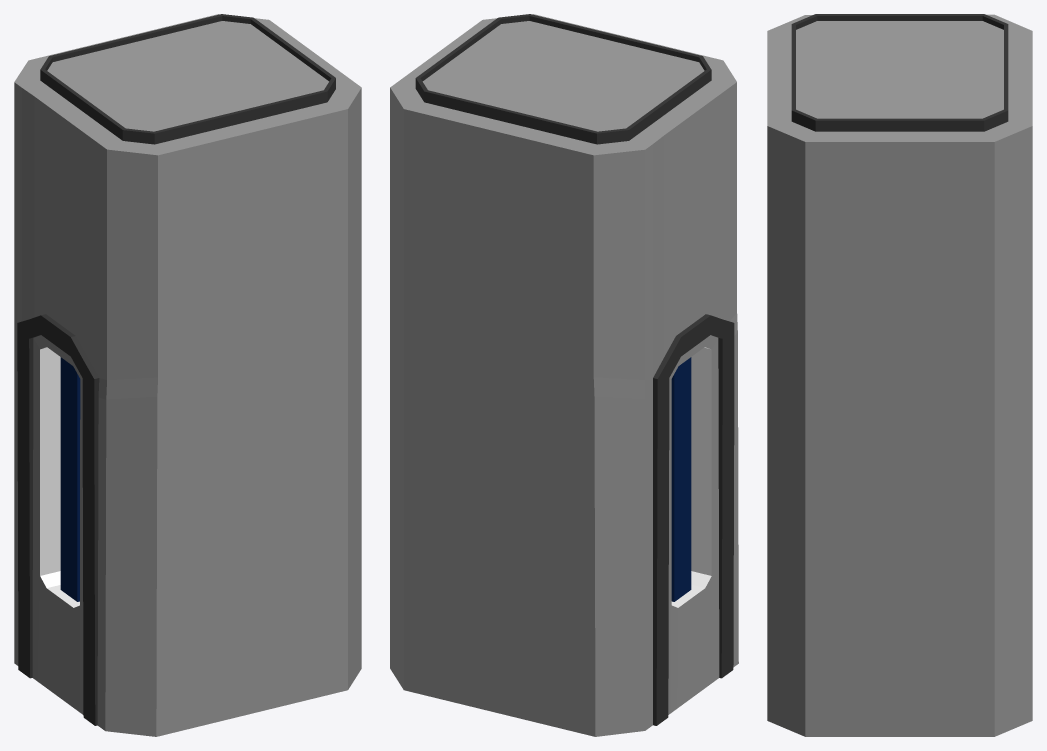
File: Table_04.fbx
The picture shows the model from 3 angles, left to right: view 1: azimuth 30°, elevation 25°; view 2: azimuth 150°, elevation 25°; view 3: azimuth 270°, elevation 25°; orthographic projection. The views are drawn at different scales.
Visible parts, largest first — view 1: F_Table_04; view 2: F_Table_04; view 3: F_Table_04.
Boxes of the visible parts, x1,y1,x2,y2 form: F_Table_04: (14,14,361,736); F_Table_04: (390,14,738,736); F_Table_04: (767,14,1032,736).
Bounding box in the file's own units: 30.72 × 66.92 × 26.57.
Materials: 1 (1 with a texture image).
